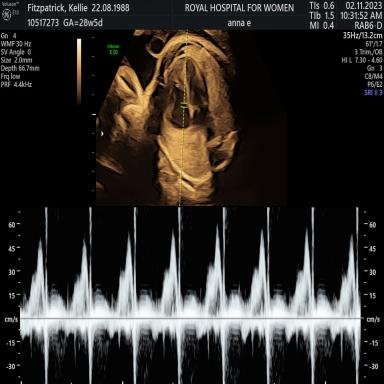Ultrasound-Waves: (25, 206, 358, 384)
